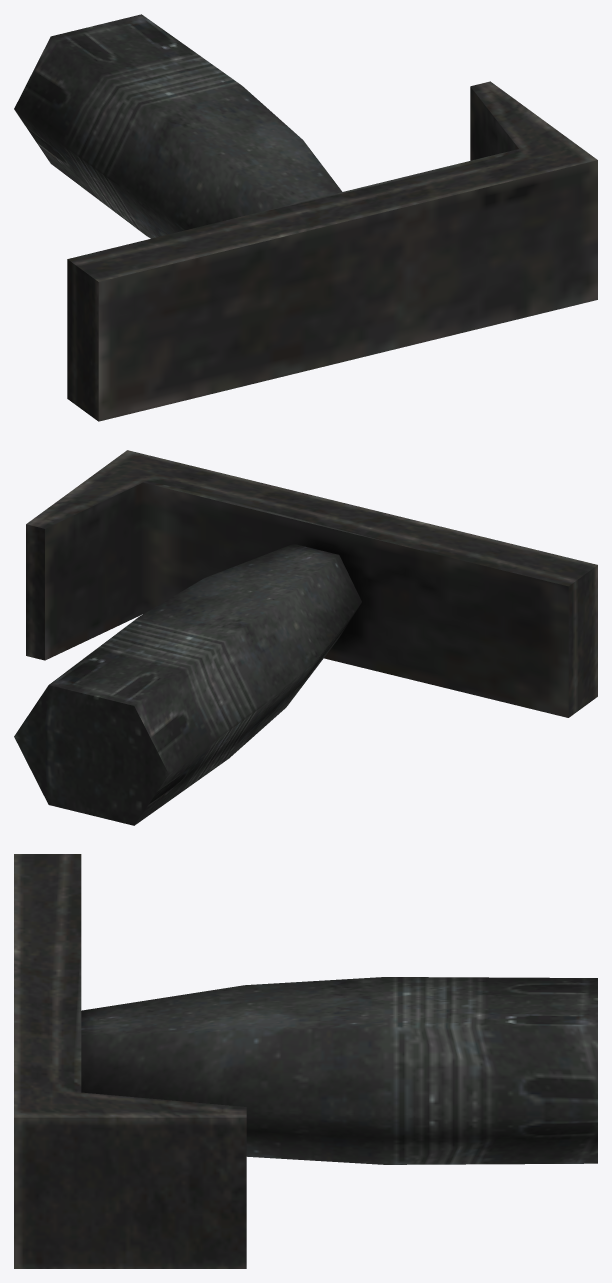
Rendered from t6_attach_grip_vector_world_LOD0.obj.
The picture shows the model from 3 angles, top to bottom: view 1: azimuth 30°, elevation 25°; view 2: azimuth 150°, elevation 25°; view 3: azimuth 270°, elevation 25°; orthographic projection. The views are drawn at different scales.
Visible parts, largest first — view 1: mtl_t6_attach_grip_vector; view 2: mtl_t6_attach_grip_vector; view 3: mtl_t6_attach_grip_vector.
Boxes of the visible parts, left/top/right/bottom form: mtl_t6_attach_grip_vector: left=14, top=14, right=597, bottom=421; mtl_t6_attach_grip_vector: left=14, top=450, right=597, bottom=825; mtl_t6_attach_grip_vector: left=14, top=854, right=597, bottom=1268.
Bounding box in the file's own units: 9.59 × 2.56 × 8.98.
